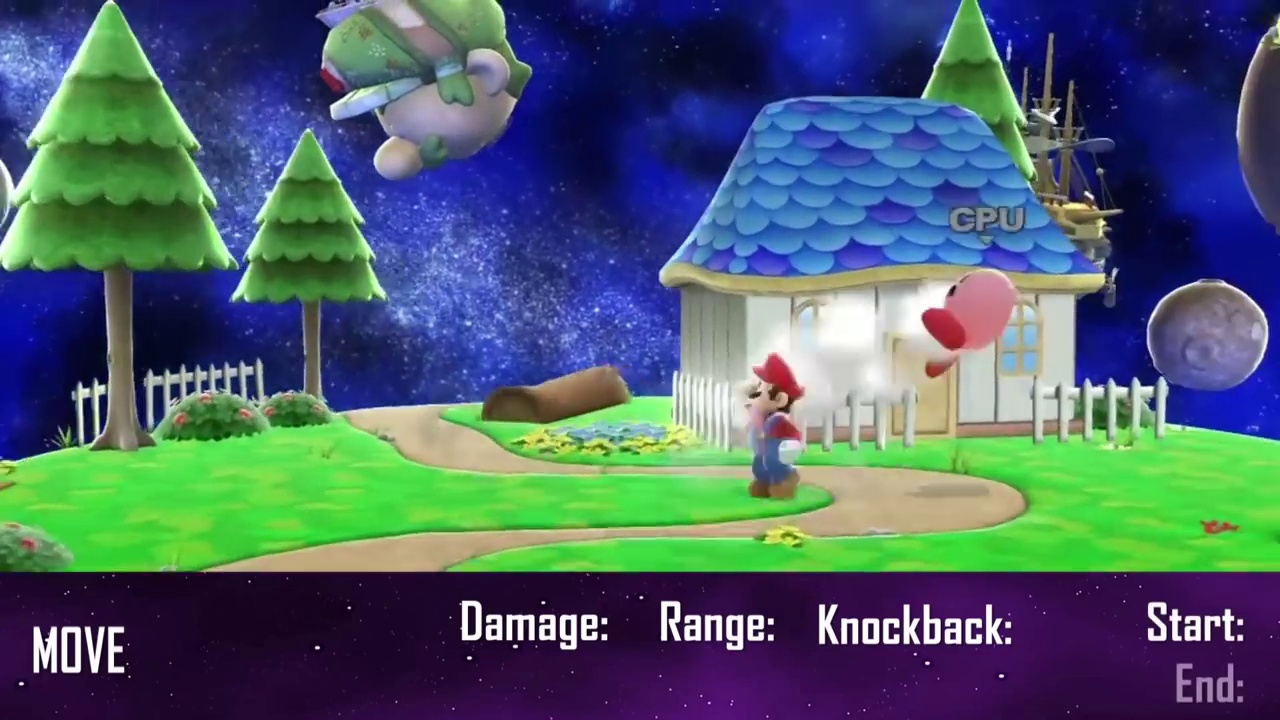Mario: (737, 354, 807, 507)
